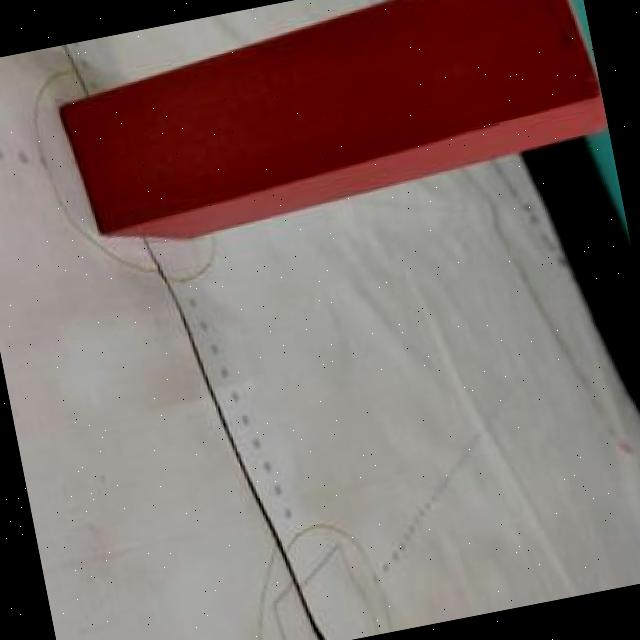redbox: (61, 0, 610, 237)
